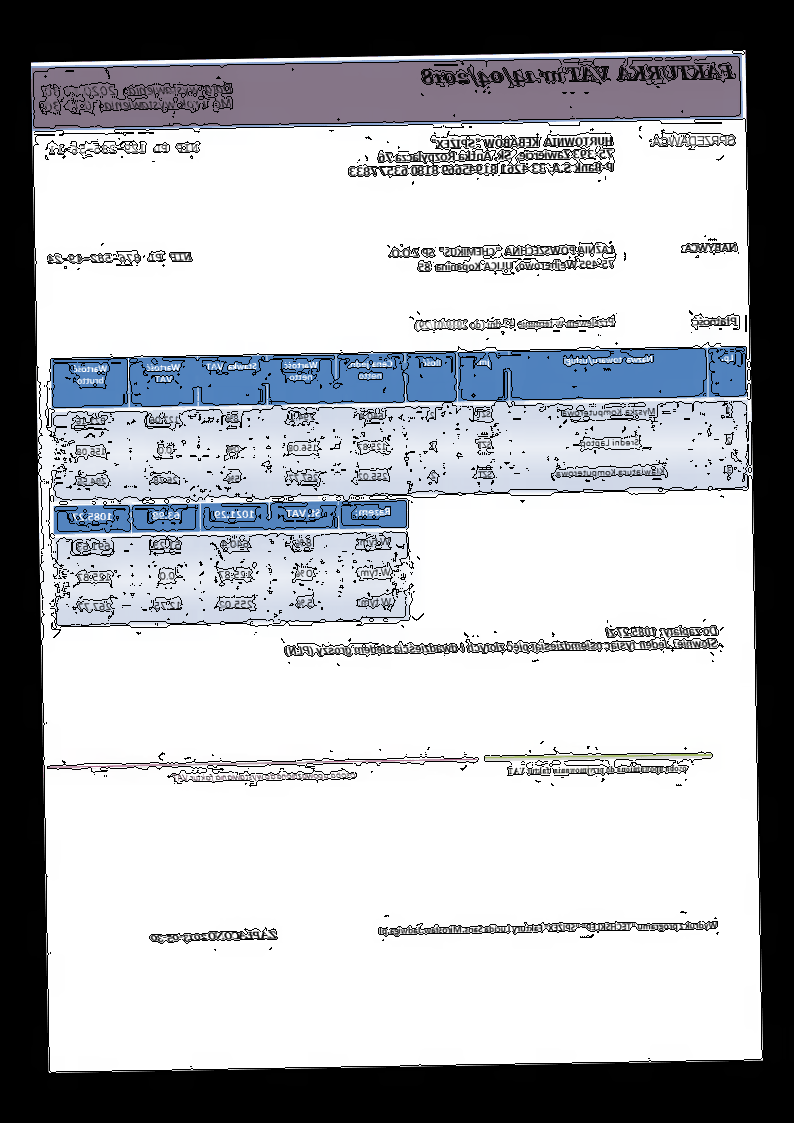Table: (49, 345, 751, 500), (53, 499, 412, 627)
TextBox: (282, 623, 721, 661), (347, 134, 615, 181), (417, 59, 737, 92), (386, 242, 618, 275), (376, 917, 721, 939), (39, 80, 236, 115), (413, 314, 617, 333), (505, 761, 692, 779), (171, 768, 359, 784), (48, 140, 202, 158), (47, 249, 195, 267), (148, 928, 280, 946), (648, 131, 738, 149), (680, 240, 741, 255), (689, 314, 741, 329)
